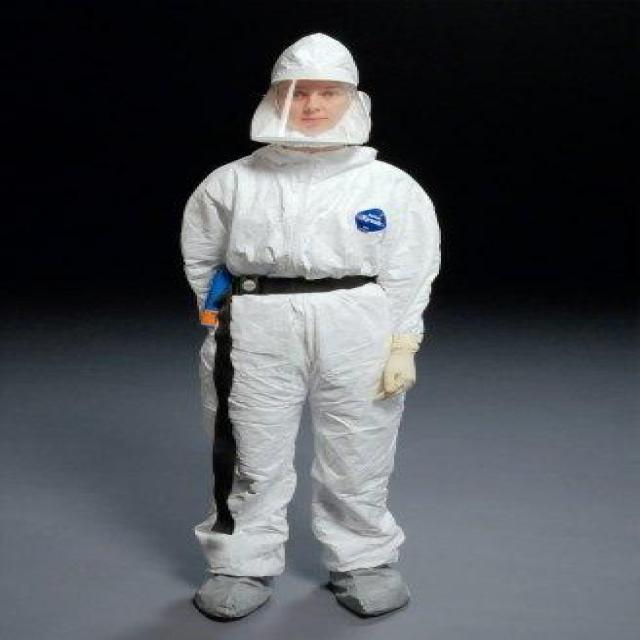Coverall: (170, 32, 447, 627)
Gloves: (379, 347, 428, 395)
